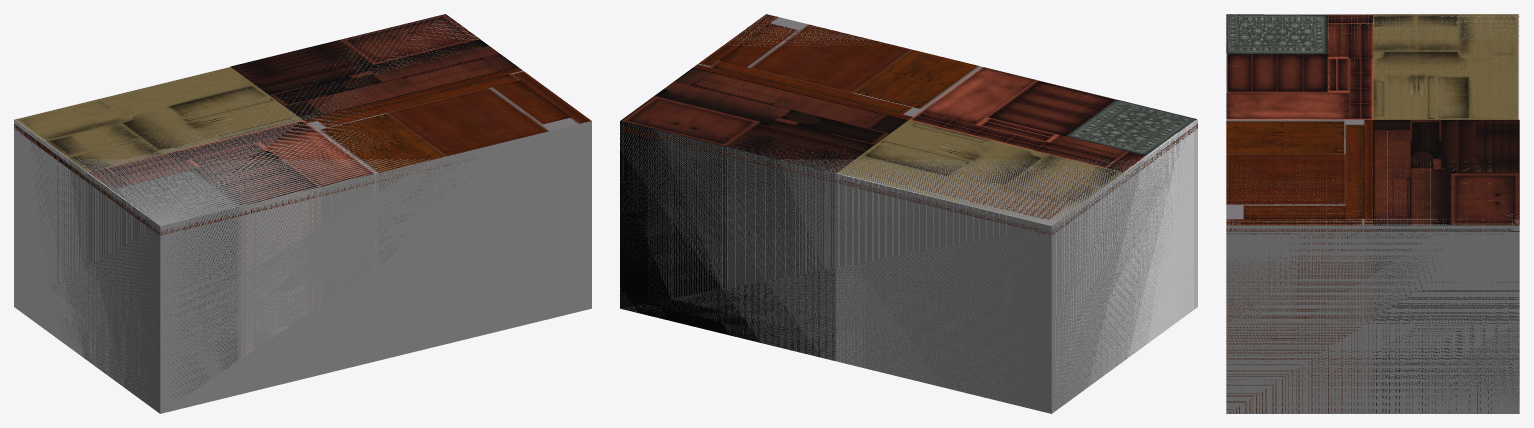
File: desk.FBX
3 renders of one model, left to right at view 1: azimuth 30°, elevation 25°; view 2: azimuth 150°, elevation 25°; view 3: azimuth 270°, elevation 25°, orthographic.
Parts seen in each view (by area): view 1: bounds, colbox-1, desk100; view 2: colbox-1, bounds, desk100; view 3: colbox-1, bounds, desk100.
Part boxes in pixels (bbox=[...]): bounds: bbox=[30, 17, 591, 413]; colbox-1: bbox=[14, 14, 591, 406]; desk100: bbox=[14, 124, 524, 235]; colbox-1: bbox=[620, 14, 1197, 406]; bounds: bbox=[620, 14, 1189, 413]; desk100: bbox=[620, 124, 1197, 234]; colbox-1: bbox=[1226, 14, 1519, 413]; bounds: bbox=[1226, 14, 1519, 413]; desk100: bbox=[1227, 18, 1519, 234].
Size of the model in its own units: 243 by 101 by 143.
